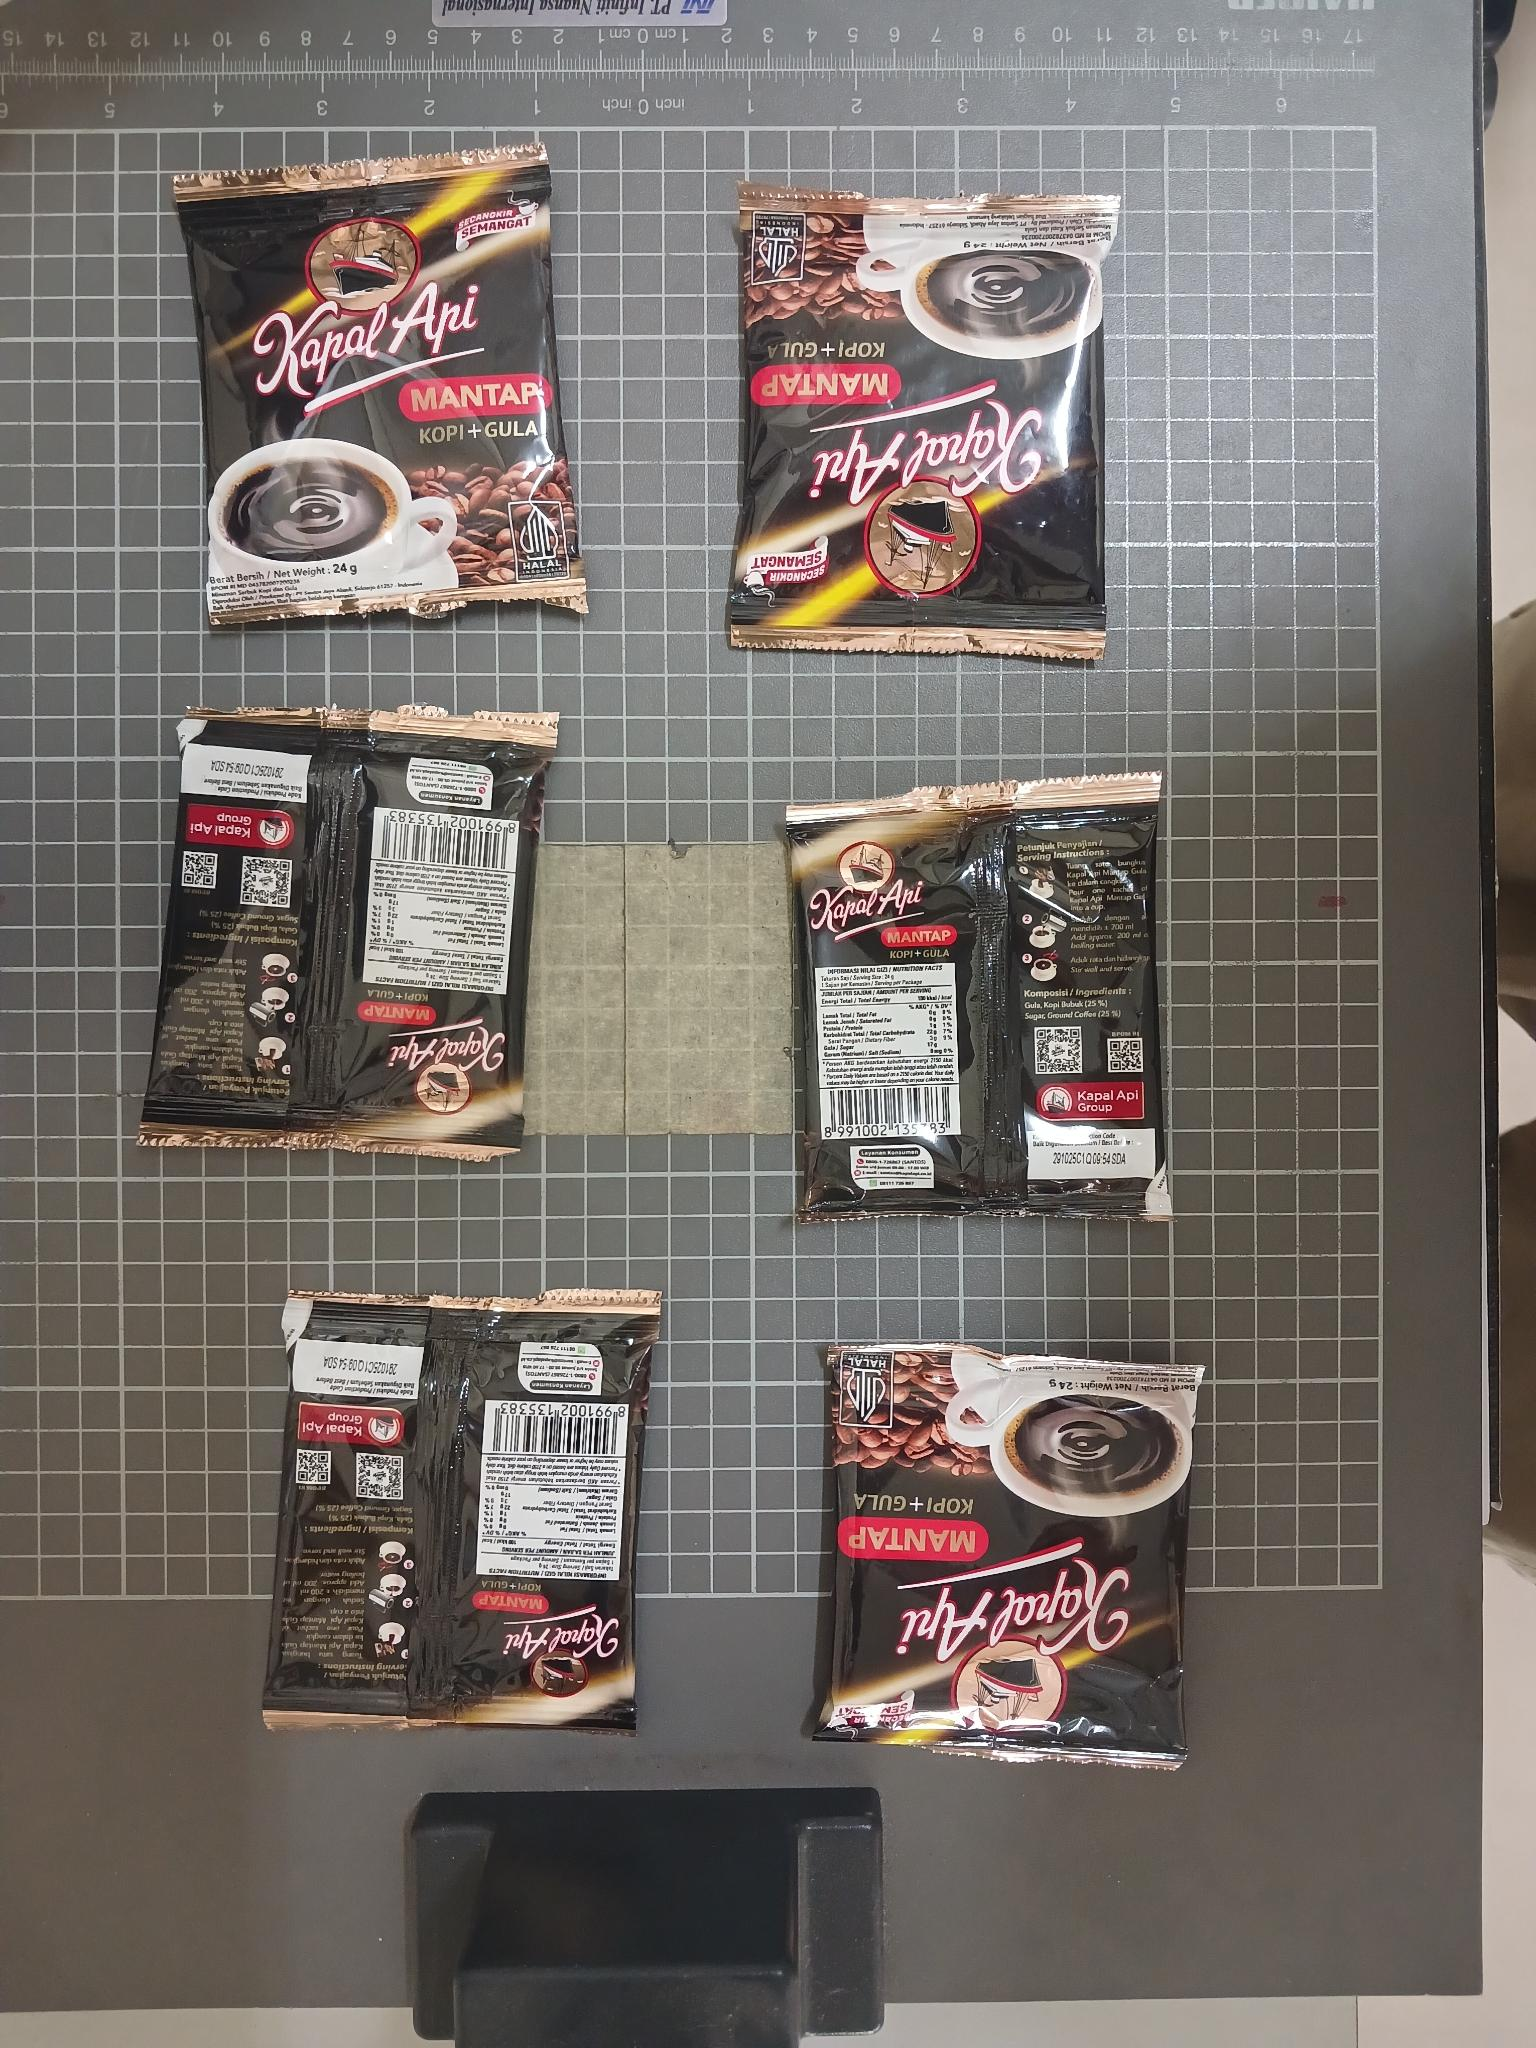back: (137, 706, 561, 1163), (258, 1287, 662, 1738), (784, 768, 1181, 1226)
front: (171, 137, 589, 629), (724, 184, 1121, 661), (807, 1342, 1207, 1774)
